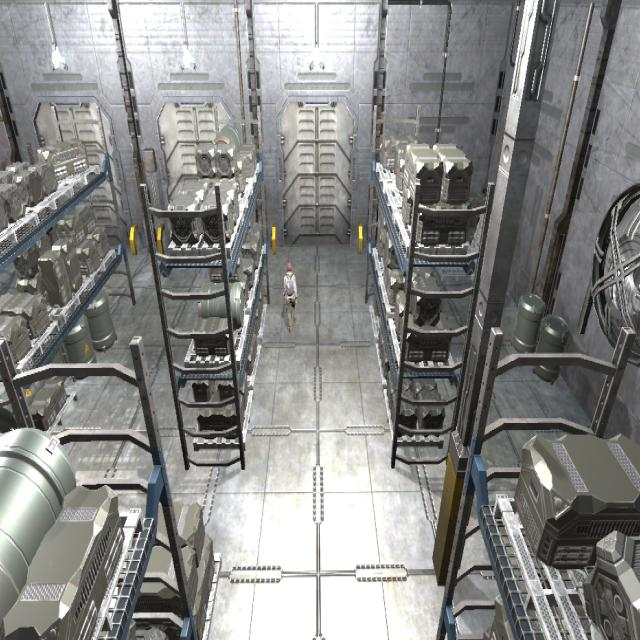thiefs: (278, 257, 299, 340)
